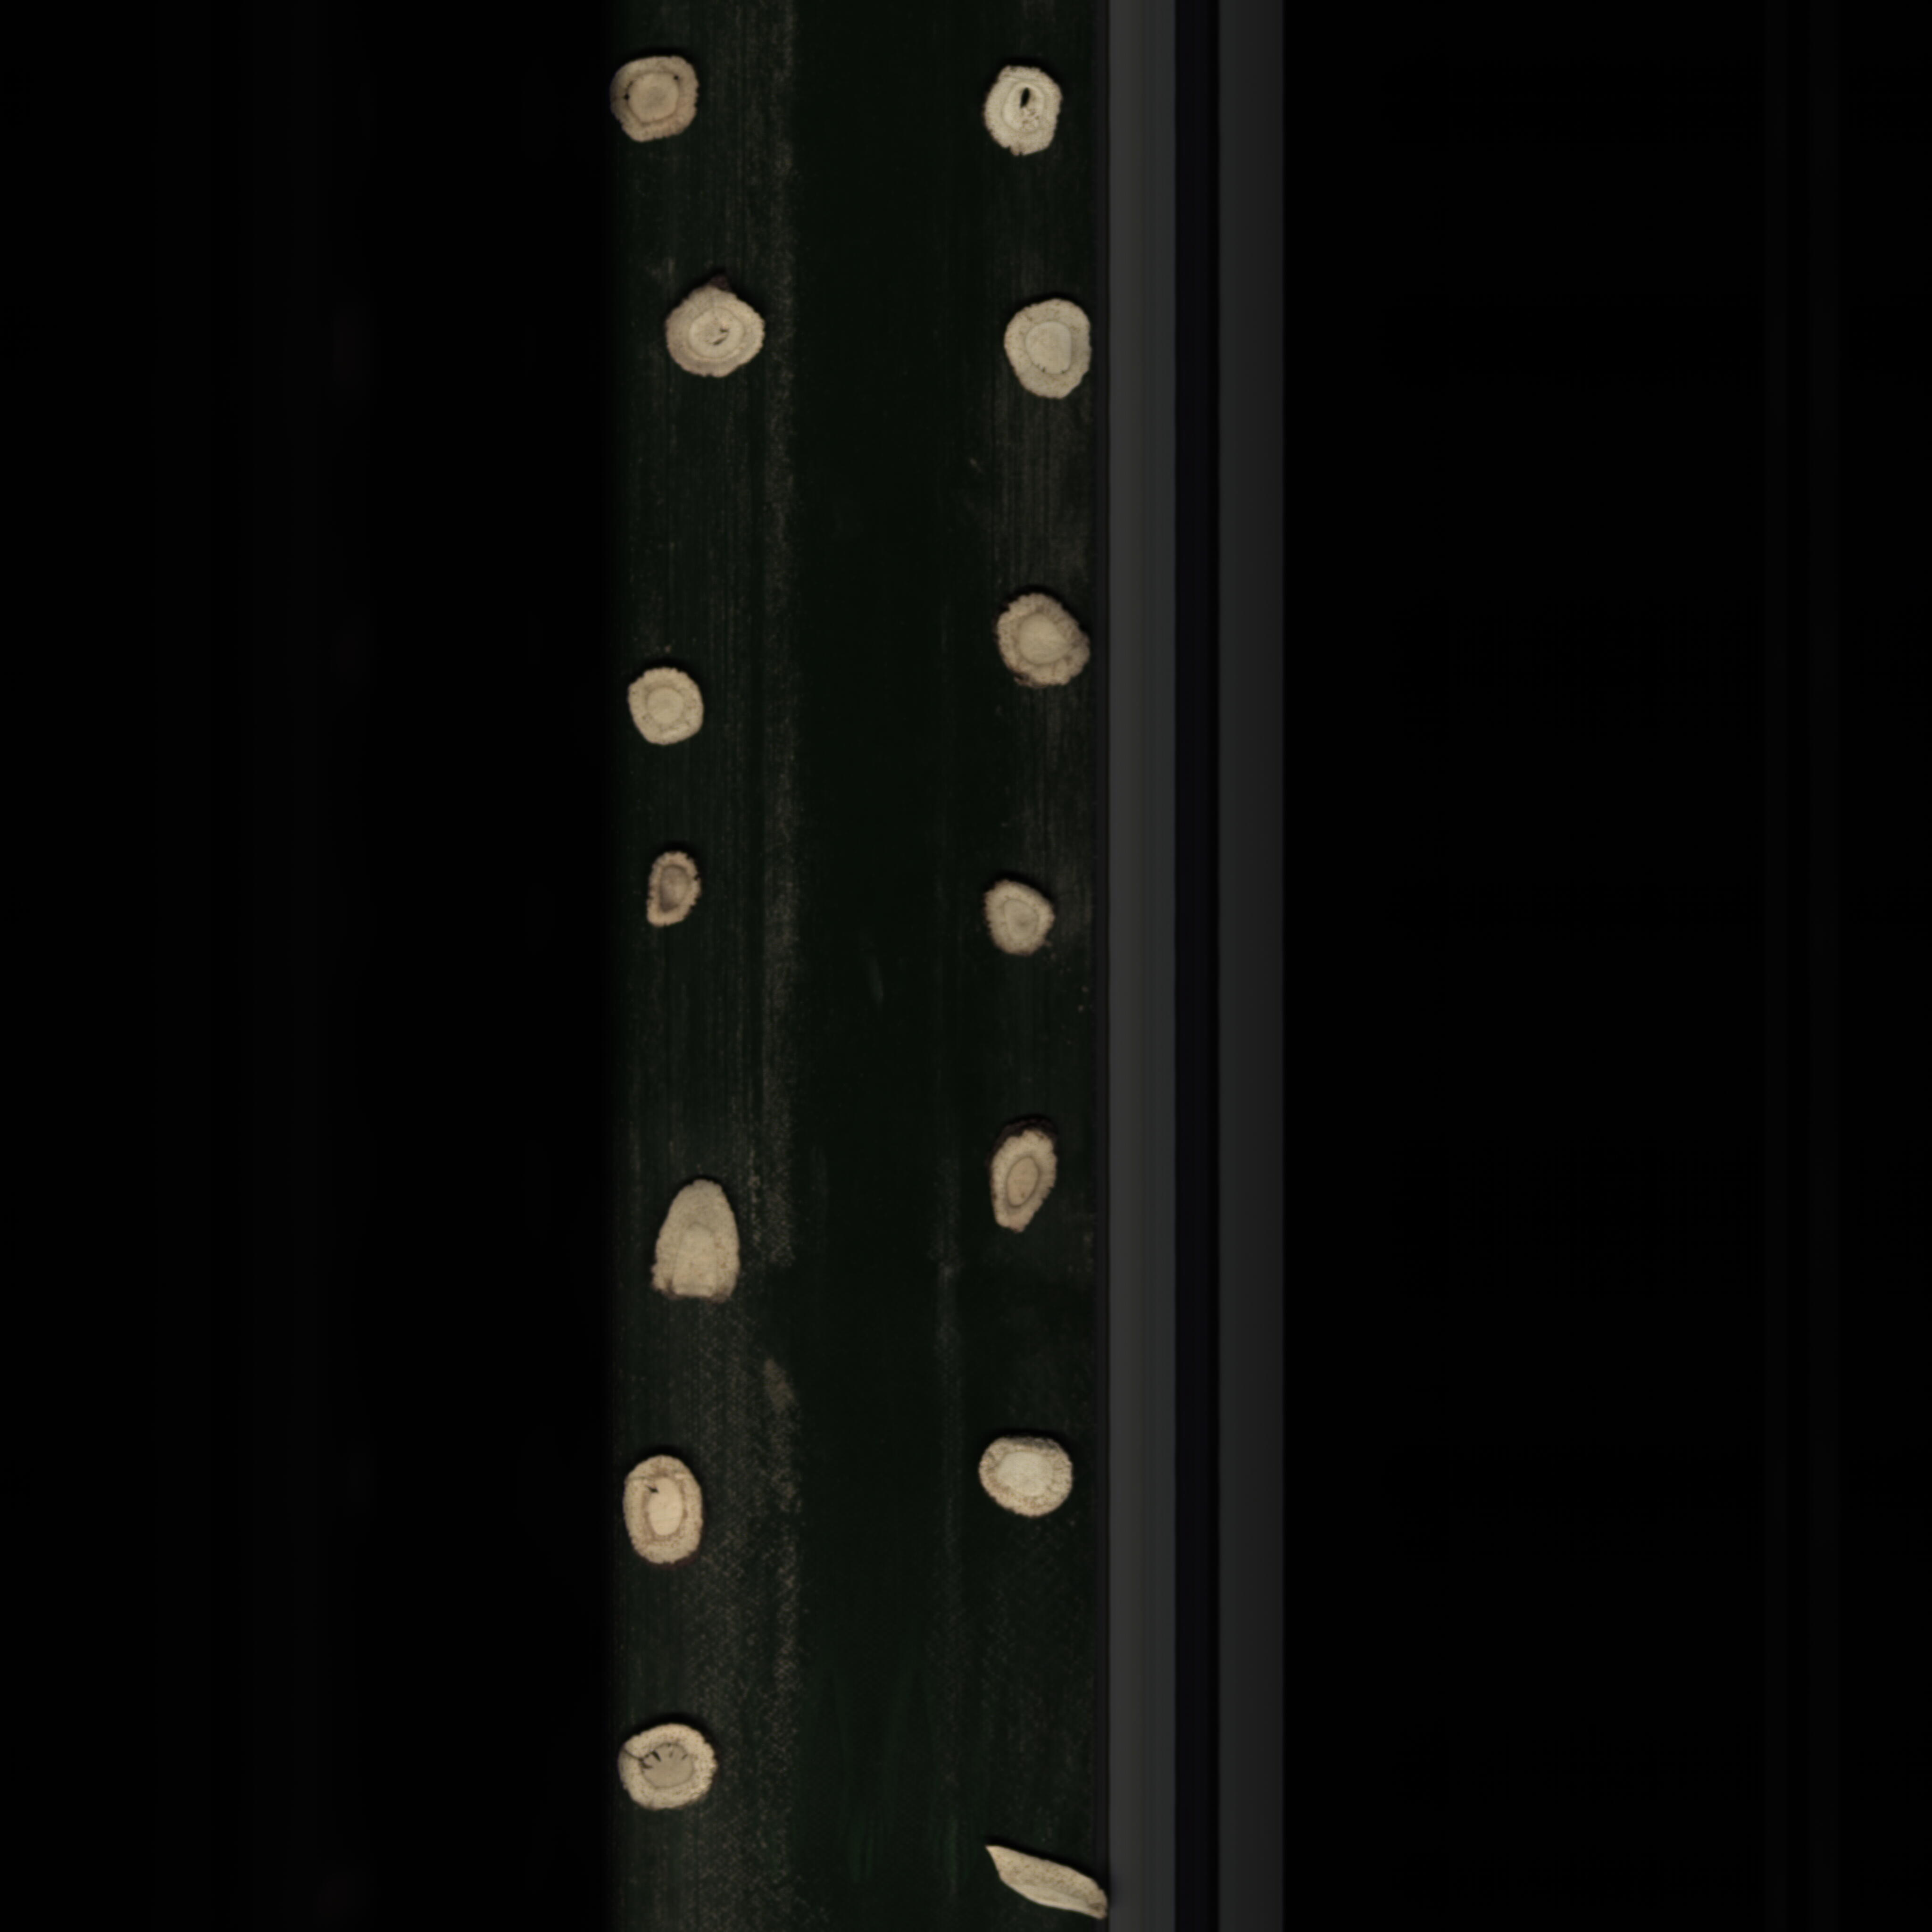distortion: (971, 1836, 1113, 1925)
hole: (653, 285, 778, 391), (609, 1714, 731, 1822), (614, 1447, 715, 1571), (978, 58, 1069, 173)
moldy: (989, 591, 1099, 697), (609, 44, 706, 149), (984, 1127, 1063, 1240), (639, 849, 708, 932)
